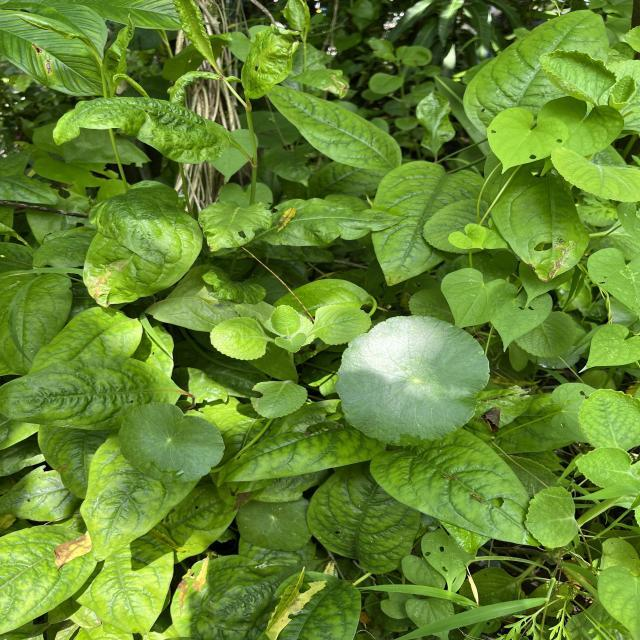Bacopa monnieri: (333, 313, 492, 448), (117, 400, 226, 485), (235, 494, 314, 552)
